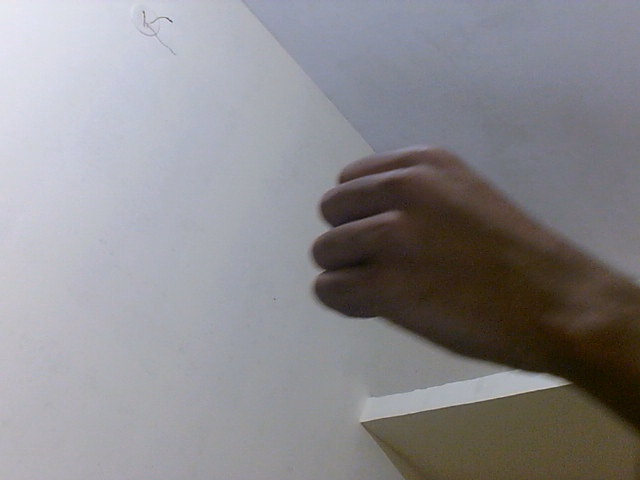hand: (310, 142, 626, 401)
